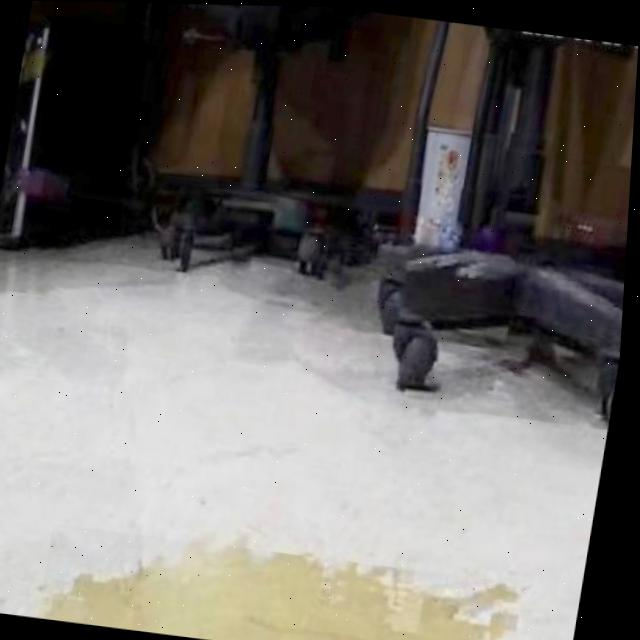spillage: (46, 549, 499, 640)
